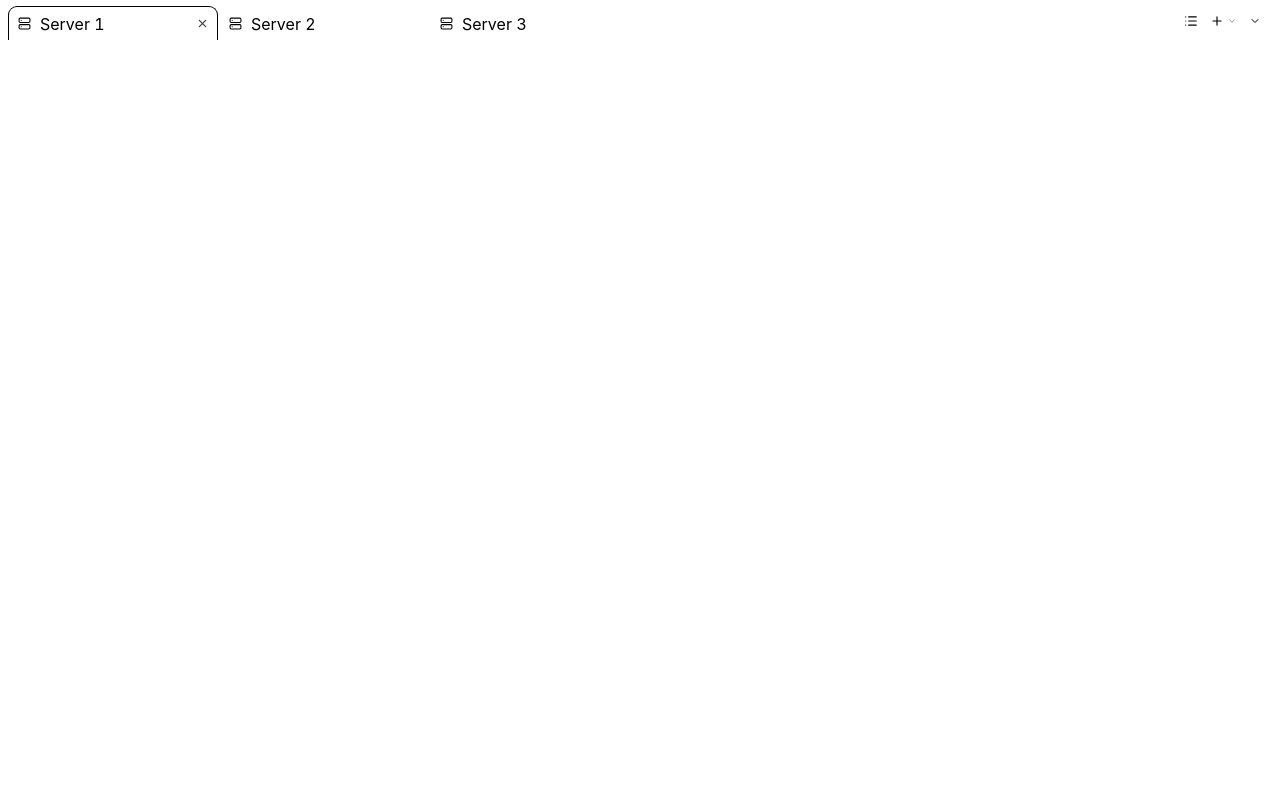
Test: TabBar overflow › keeps terminal tools and other action menus mutually exclusive
The width and height of the screenshot is (1280, 800).
Click the button named "Terminal tools".
click(1255, 21)  # box [1240,6,1270,36]
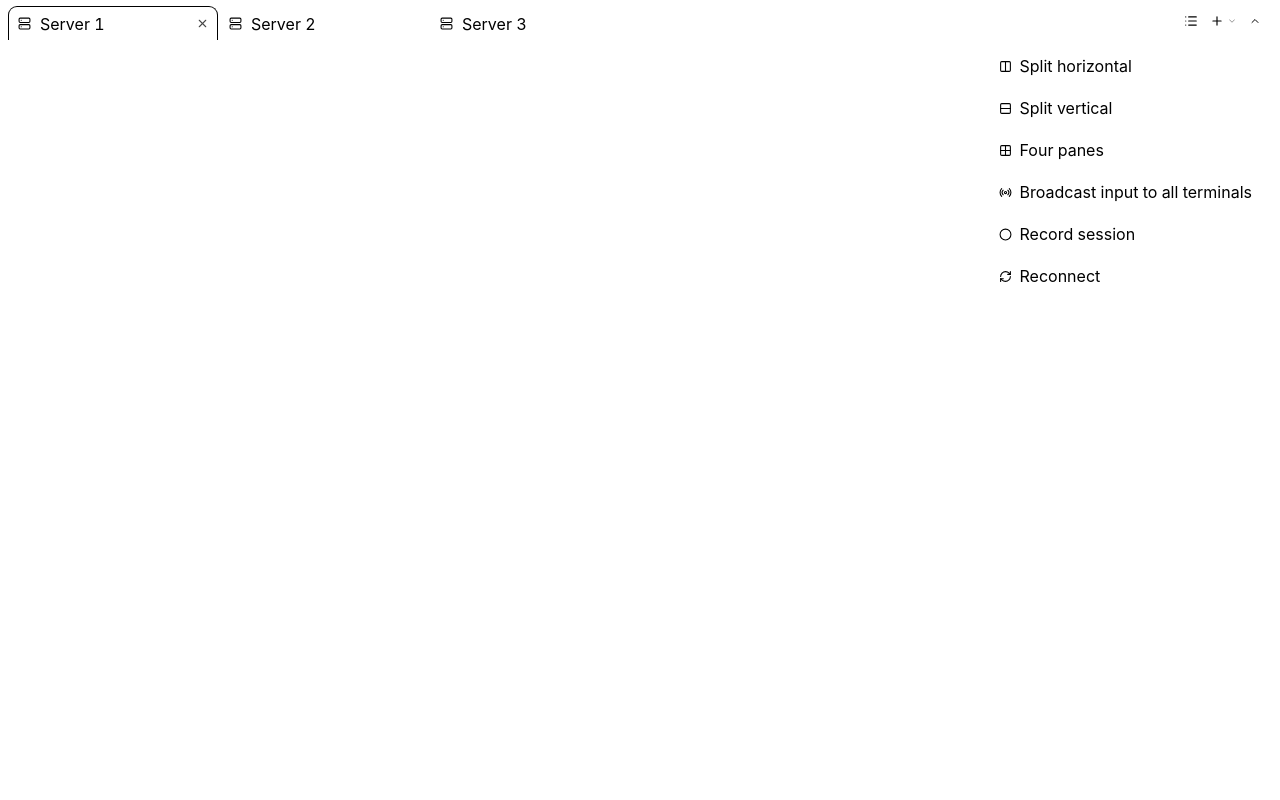
Now the menu is shown, box [980,41,1270,301]
Click the button named "All tabs".
click(1191, 21)  # box [1176,6,1206,36]
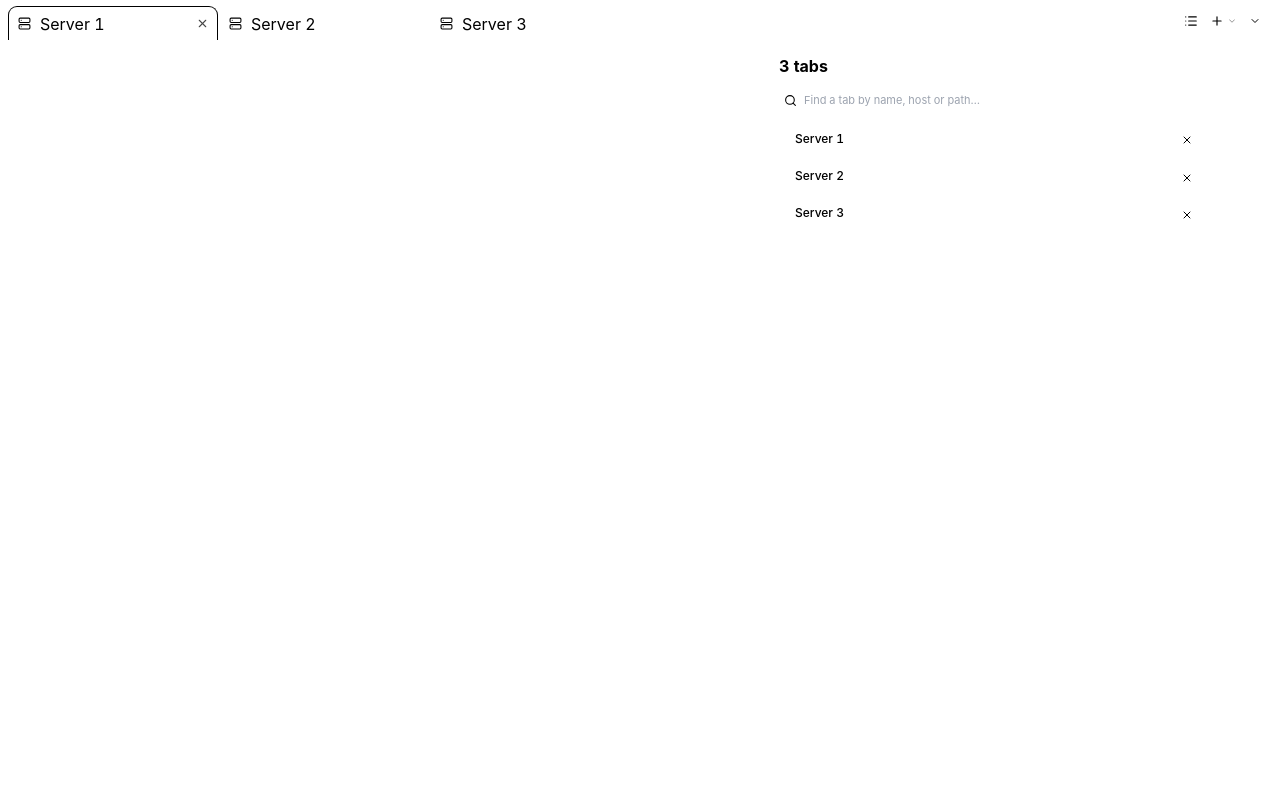
Now the menu is gone
Now the dialog named "All tabs" is shown, box [766,43,1206,240]
